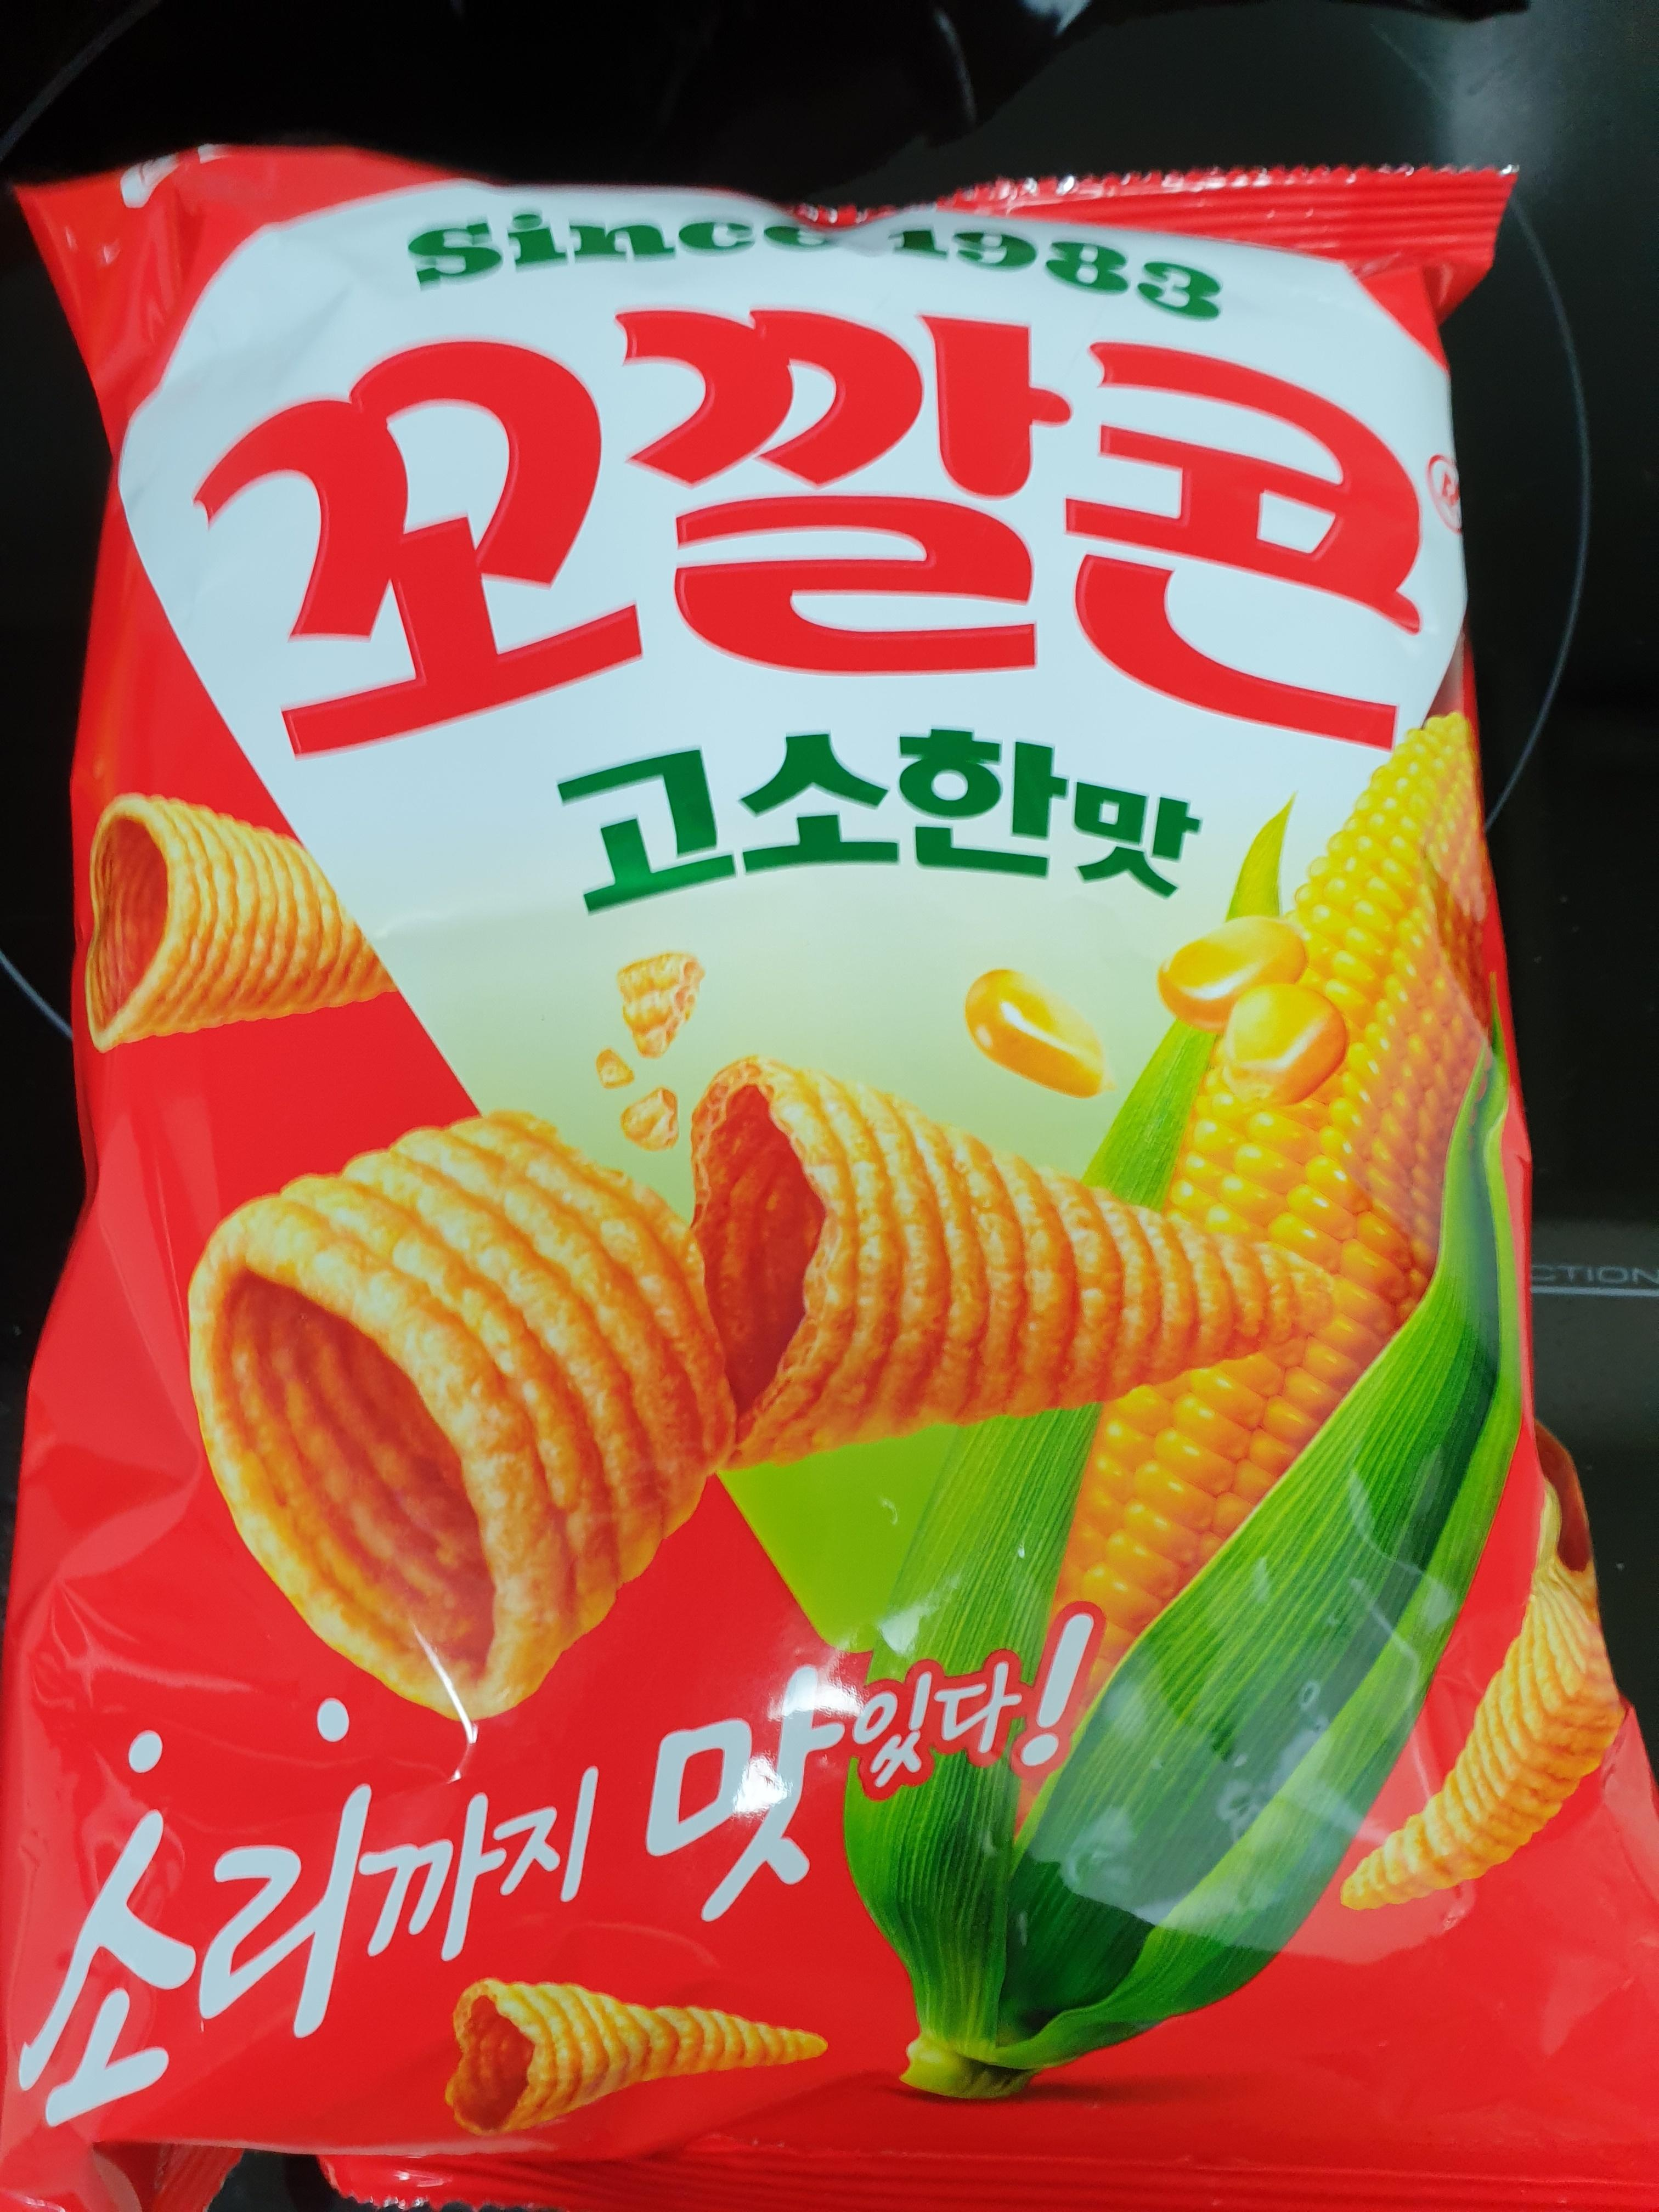snack: (0, 139, 1659, 2212)
